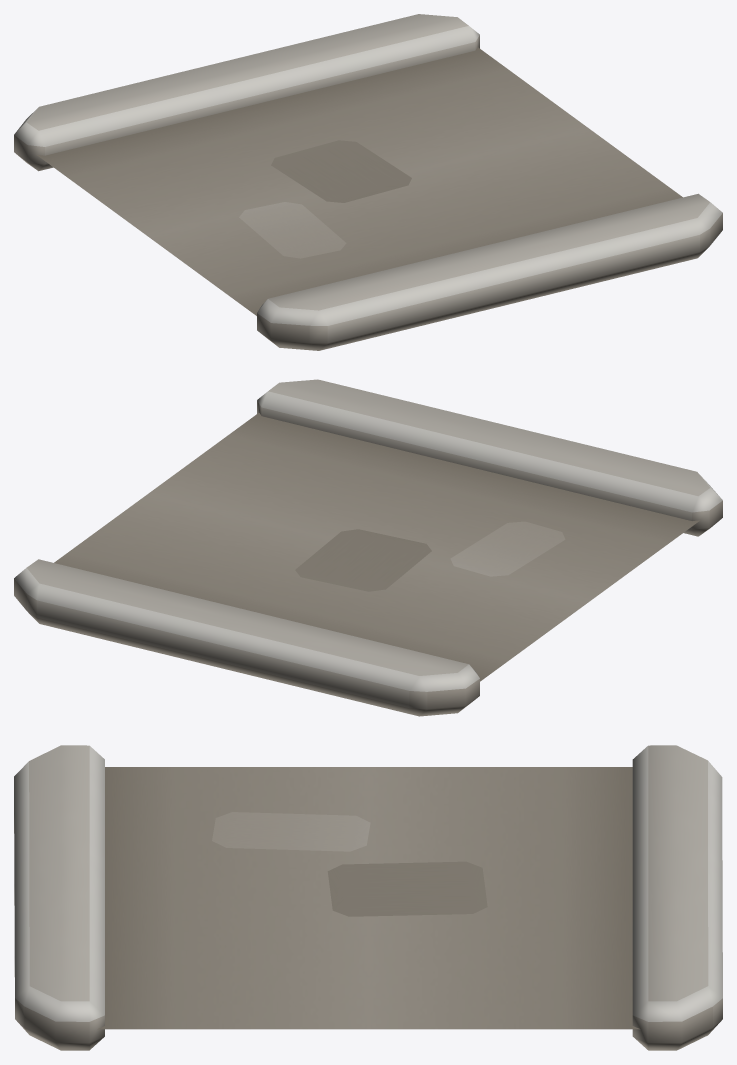
File: path_park_tile_x2.fbx
3 views of the same model, one above another, from view 1: azimuth 30°, elevation 25°; view 2: azimuth 150°, elevation 25°; view 3: azimuth 270°, elevation 25° (orthographic). The views are drawn at different scales.
Visible parts, largest first — view 1: path_park_tile_x2; view 2: path_park_tile_x2; view 3: path_park_tile_x2.
Part boxes in pixels (box(x1,y1,x2,y2)): path_park_tile_x2: box(14, 14, 722, 350); path_park_tile_x2: box(14, 379, 722, 716); path_park_tile_x2: box(14, 745, 722, 1050).
Size of the model in its own units: 410 by 35 by 457.
